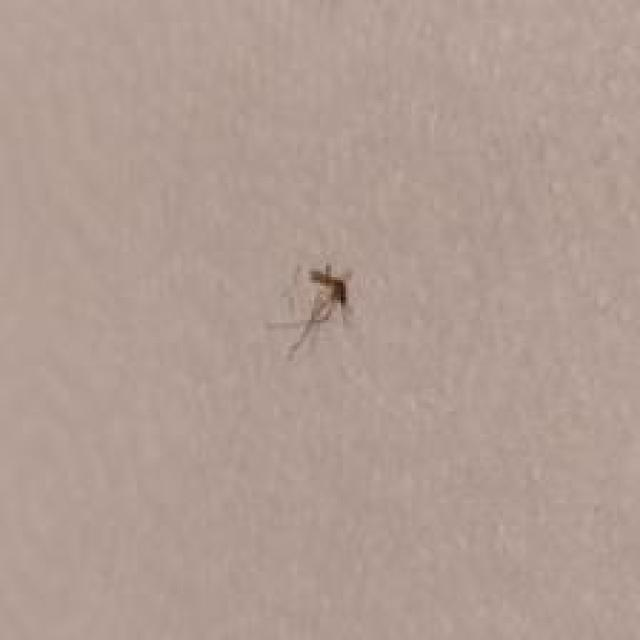Culex: (280, 262, 354, 362)
